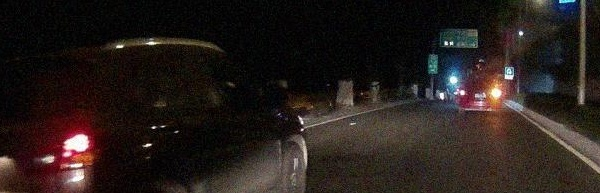L_light: (460, 90, 467, 95)
R_light: (490, 90, 500, 96)
T_light: (478, 78, 486, 81)
night-right: (459, 76, 502, 115)
